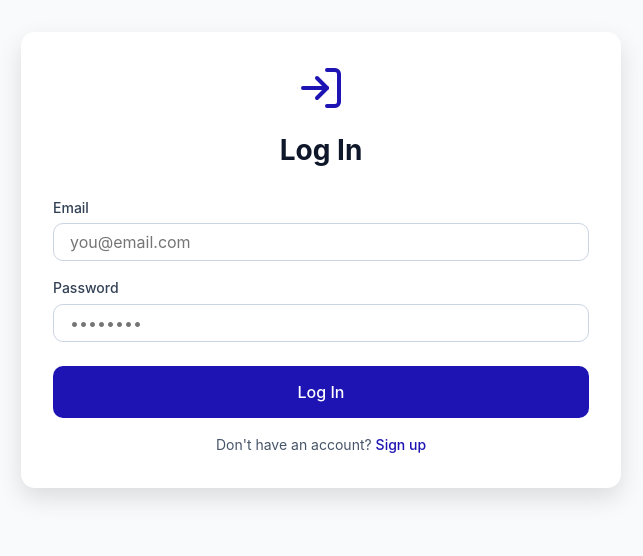
it: LoginPage › should show error message on login failure
The width and height of the screenshot is (643, 556).
Type "invalid@example.com" into the field with placeholder "you@email.com" at (321, 242), box left=53, top=223, right=589, bottom=261
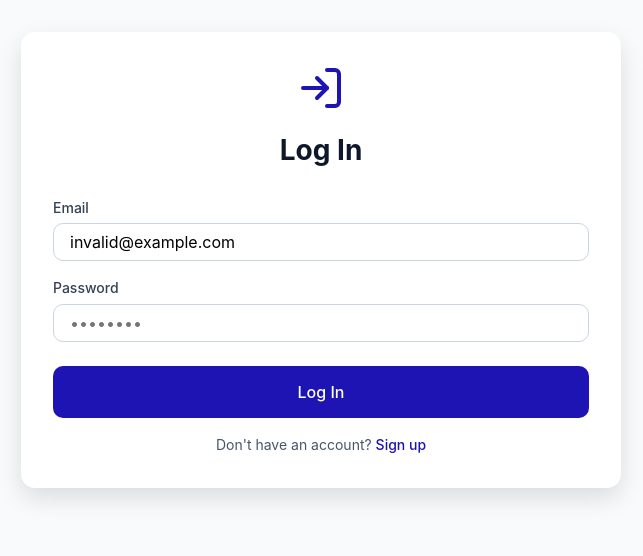
Type "wrongpassword" into the password field with placeholder "••••••••" at (321, 323), box left=53, top=304, right=589, bottom=342
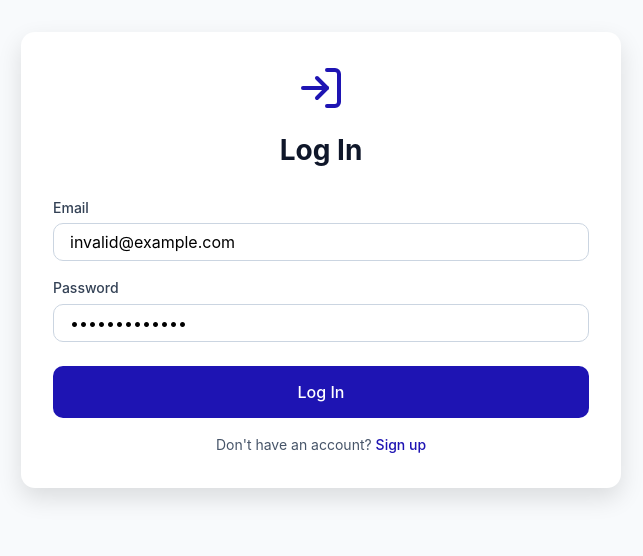
Click the button "Log In" at (321, 392), box left=53, top=366, right=589, bottom=418
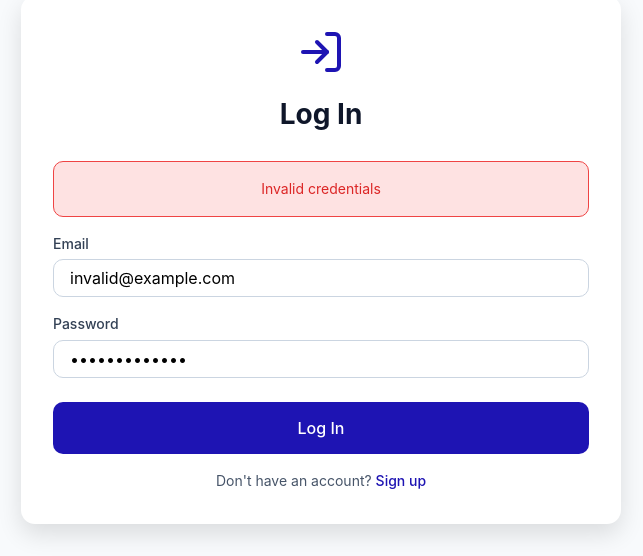
Result: the text "Invalid credentials" is shown at left=53, top=161, right=589, bottom=217
